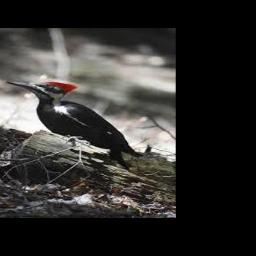Woodpecker: (7, 79, 142, 167)
